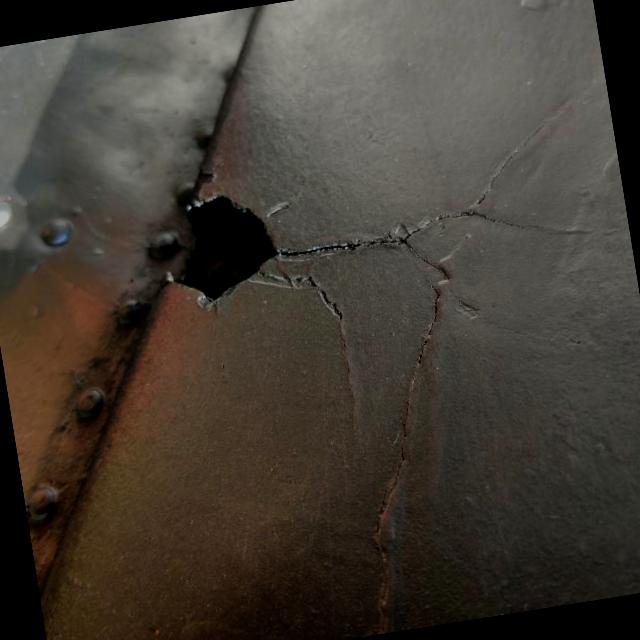crack: (90, 36, 397, 504)
